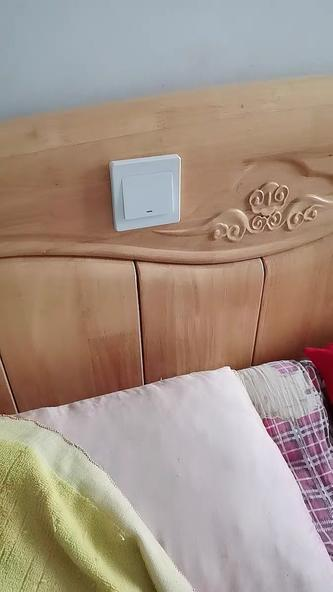switch: (118, 165, 176, 225)
